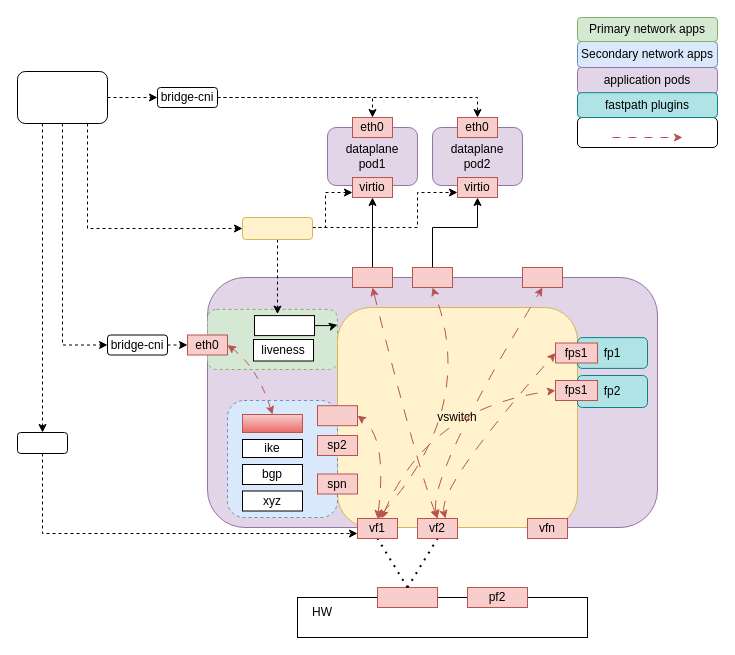
Some shapes in this 735 by 655 pixel diagram are drawn without their labels. The centre of each missing label's shape, as x and y in pixels:
"flows" belongs at point 647,132.
"multus-cni OR podman" belongs at point 62,97.
"pf1" belongs at point 407,597.
"socat" belongs at point 272,423.
"sp1" belongs at point 337,415.
"sriov-cni" belongs at point 42,443.
"vhost1" belongs at point 372,277.
"vhost2" belongs at point 432,277.
"vhostn" belongs at point 542,277.
"vswitch-cni" belongs at point 277,228.
"vswitch-ctl" belongs at point 284,325.
